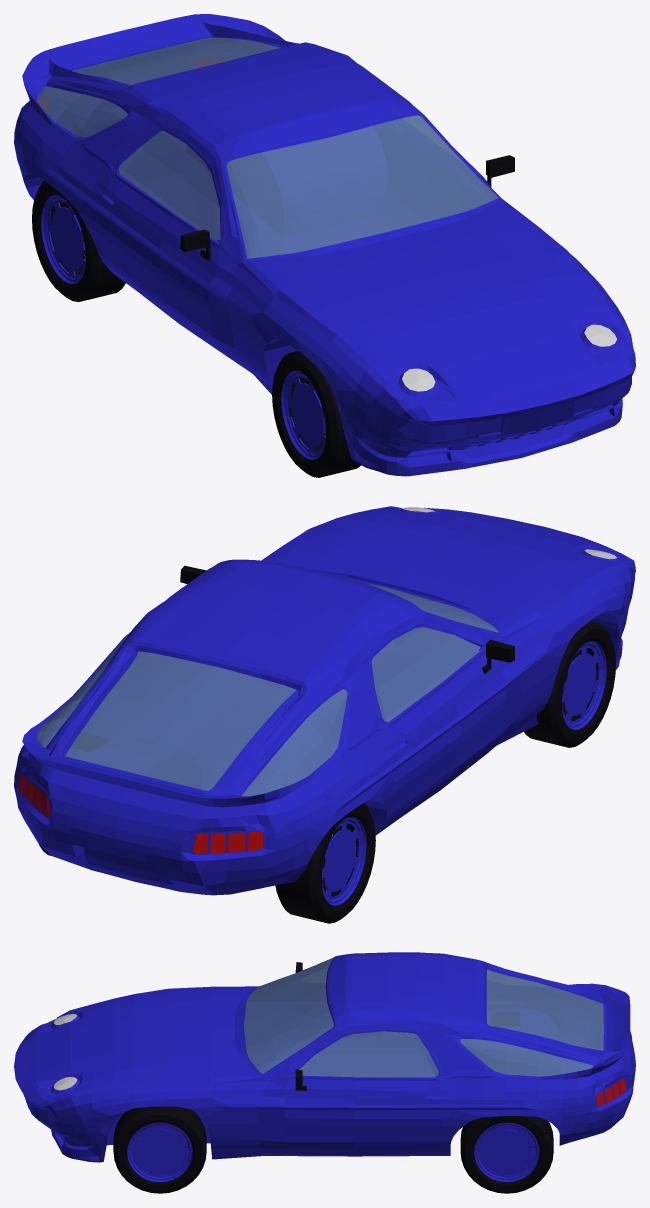
The model's file is porsche.obj.
3 renders of one model, top to bottom at view 1: azimuth 30°, elevation 25°; view 2: azimuth 150°, elevation 25°; view 3: azimuth 270°, elevation 25°, orthographic. The views are drawn at different scales.
Visible parts, largest first — view 1: body, glass, tireC, tire, rim, rimC, mirror, frlite; view 2: body, glass, tire, tireC, rimC, rim, relite, mirror; view 3: body, glass, tireB, tireA, rimA, rimB, rim1A, rim1B, relite, frlite, tire.
Boxes of the visible parts, <box> form: body: <box>14,14,635,476</box>; glass: <box>37,37,498,258</box>; tireC: <box>272,351,360,477</box>; tire: <box>32,180,125,301</box>; rim: <box>45,197,85,280</box>; rimC: <box>285,373,325,456</box>; mirror: <box>180,155,514,260</box>; frlite: <box>402,324,616,391</box>; body: <box>14,506,635,895</box>; glass: <box>37,583,498,796</box>; tire: <box>275,803,375,923</box>; tireC: <box>524,621,615,747</box>; rimC: <box>562,643,602,726</box>; rim: <box>321,819,362,901</box>; relite: <box>20,773,262,853</box>; mirror: <box>180,565,514,673</box>; body: <box>14,952,635,1162</box>; glass: <box>244,958,603,1077</box>; tireB: <box>113,1106,206,1193</box>; tireA: <box>460,1116,553,1193</box>; rimA: <box>476,1123,537,1179</box>; rimB: <box>129,1123,190,1179</box>; rim1A: <box>474,1122,539,1181</box>; rim1B: <box>127,1122,192,1181</box>; relite: <box>597,1010,626,1106</box>; frlite: <box>53,1014,77,1090</box>; tire: <box>492,1013,519,1025</box>.
Bounding box in the file's own units: 50.52 × 33.8 × 114.
